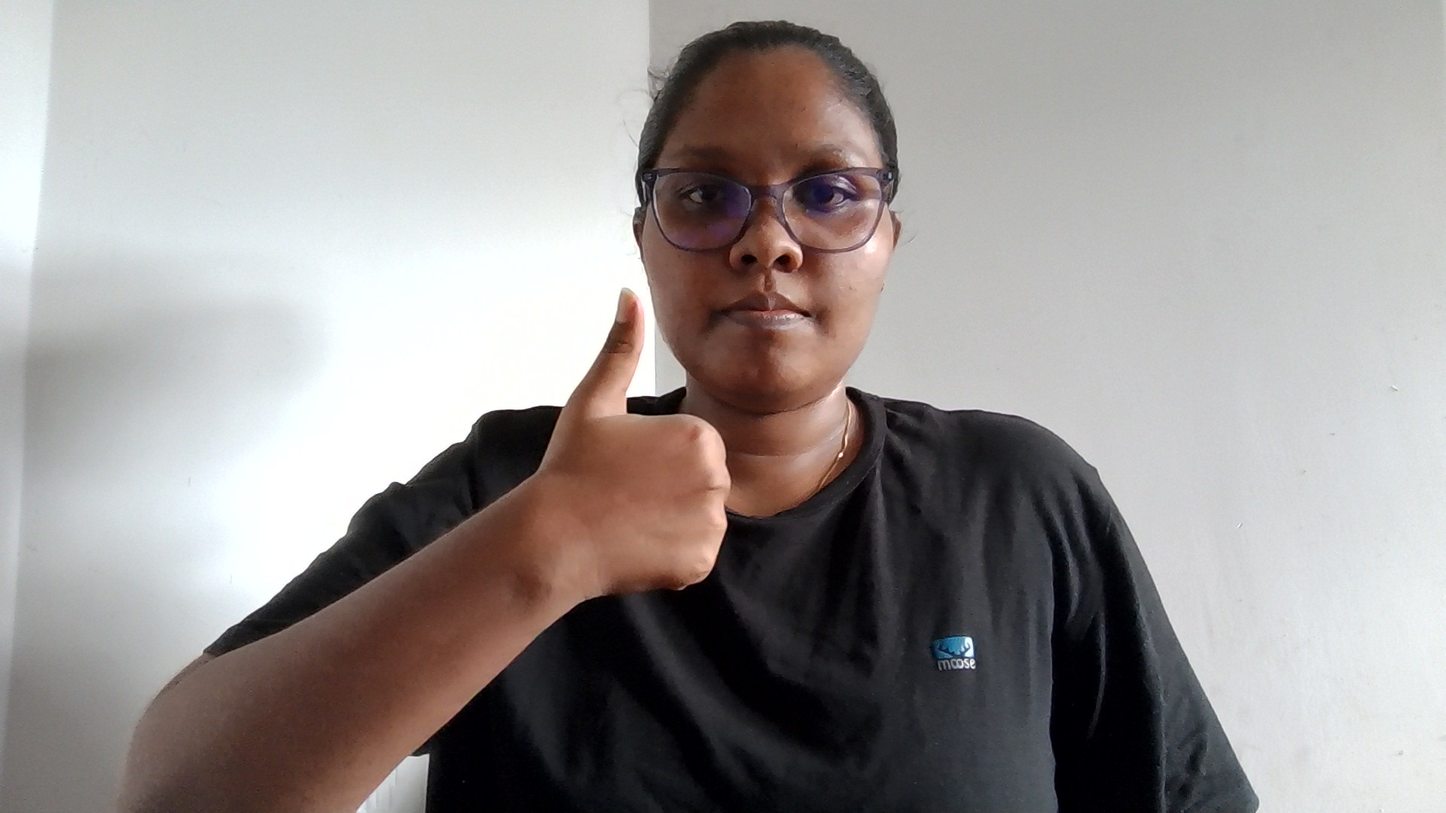Thumbs Up: (499, 260, 927, 720)
